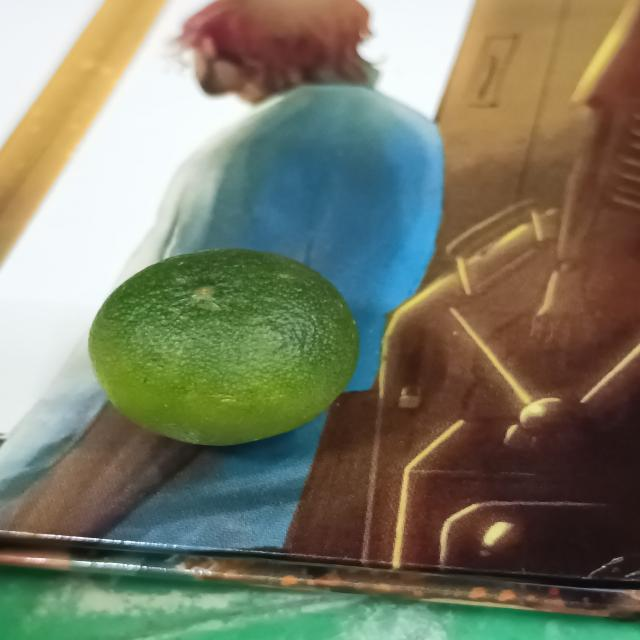heathy: (81, 242, 363, 446)
